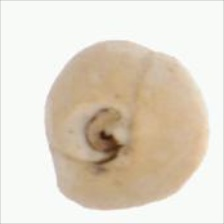L3: (75, 101, 136, 169)
L4: (45, 40, 208, 211)
